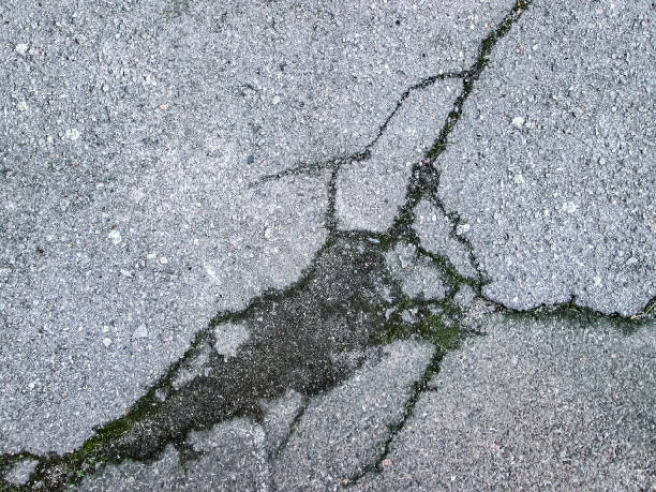Berlubang: (75, 172, 483, 490)
